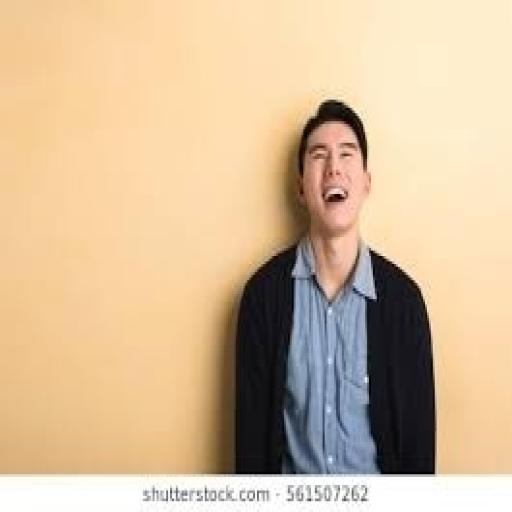laughing: (224, 86, 444, 474)
